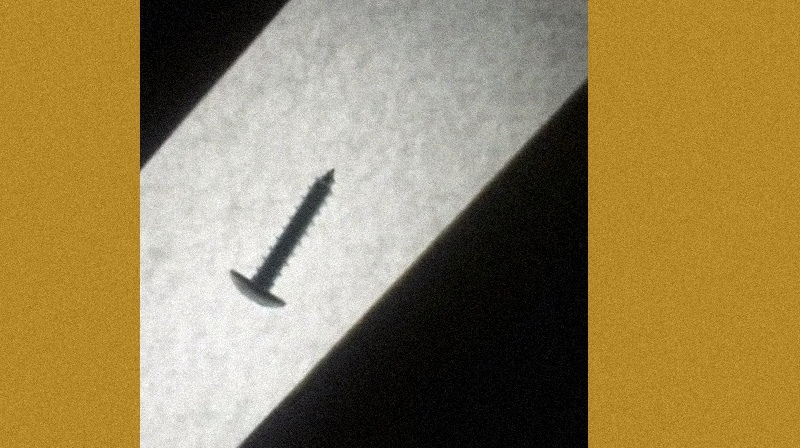S003: (228, 163, 337, 314)
